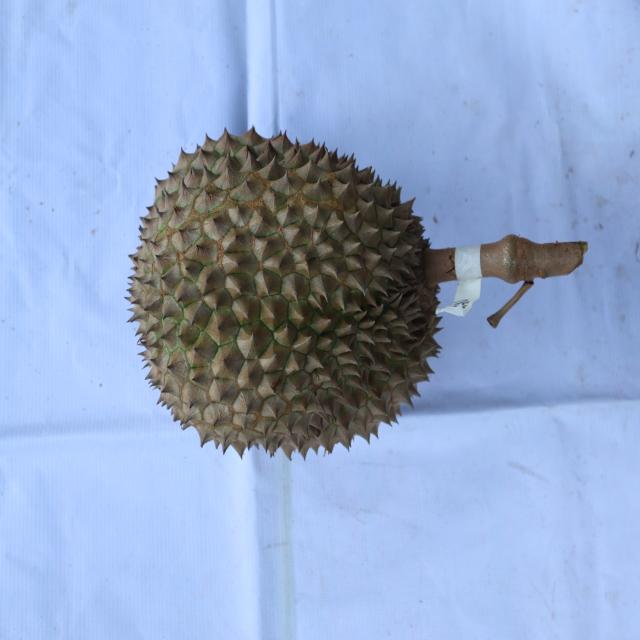mature: (124, 118, 444, 460)
